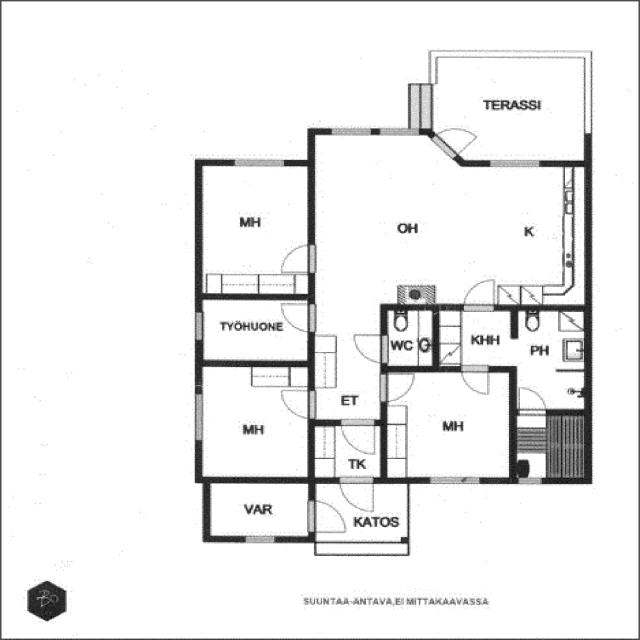door: (433, 126, 482, 161), (338, 420, 380, 457), (308, 498, 347, 536), (338, 477, 377, 513), (461, 276, 500, 312), (277, 241, 316, 276), (351, 332, 390, 366), (379, 370, 417, 404), (279, 300, 316, 334), (278, 388, 316, 420), (459, 366, 492, 398), (516, 385, 548, 416), (515, 477, 545, 502)
window: (433, 128, 479, 162), (576, 70, 598, 140), (483, 155, 546, 175), (189, 387, 209, 445), (422, 473, 487, 488), (230, 156, 288, 171), (328, 124, 376, 140), (376, 124, 420, 140), (191, 306, 207, 346), (242, 534, 279, 546), (516, 476, 544, 490)
zone: (306, 158, 582, 309), (429, 54, 594, 164), (384, 368, 513, 482), (199, 164, 311, 294), (197, 365, 312, 482), (434, 307, 588, 371), (314, 308, 384, 422), (198, 299, 314, 363), (204, 481, 314, 541), (514, 412, 591, 480), (384, 308, 435, 369), (515, 371, 589, 410)
